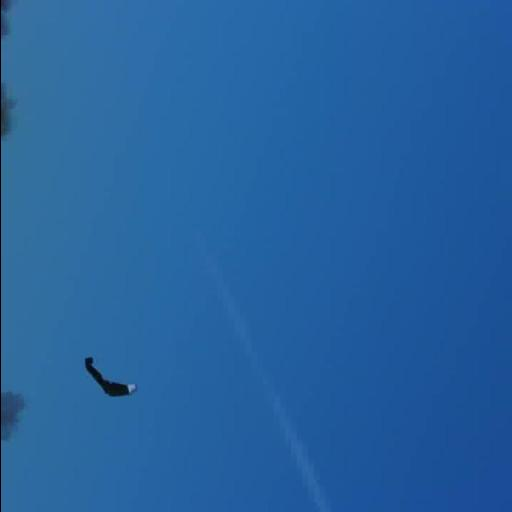uav: (70, 350, 142, 400)
